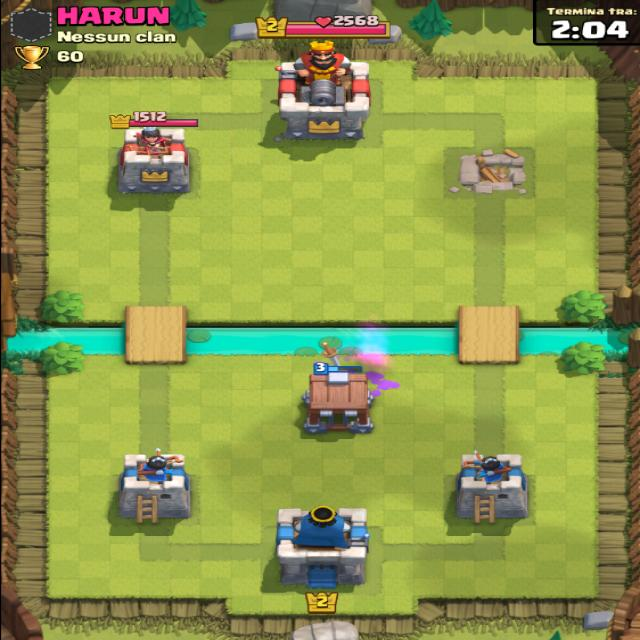Player-GoblinCage: (302, 358, 382, 440)
